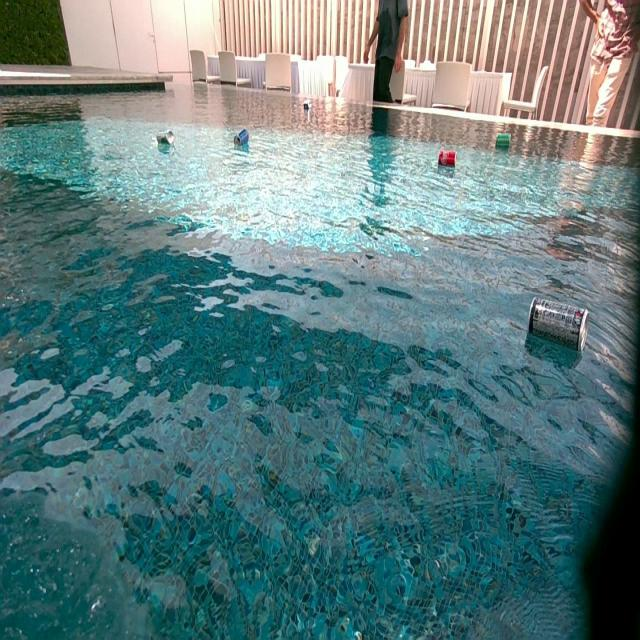Cans: (530, 300, 592, 357), (439, 152, 457, 169), (158, 130, 176, 147), (235, 130, 250, 147), (496, 132, 510, 145), (302, 102, 311, 110)
